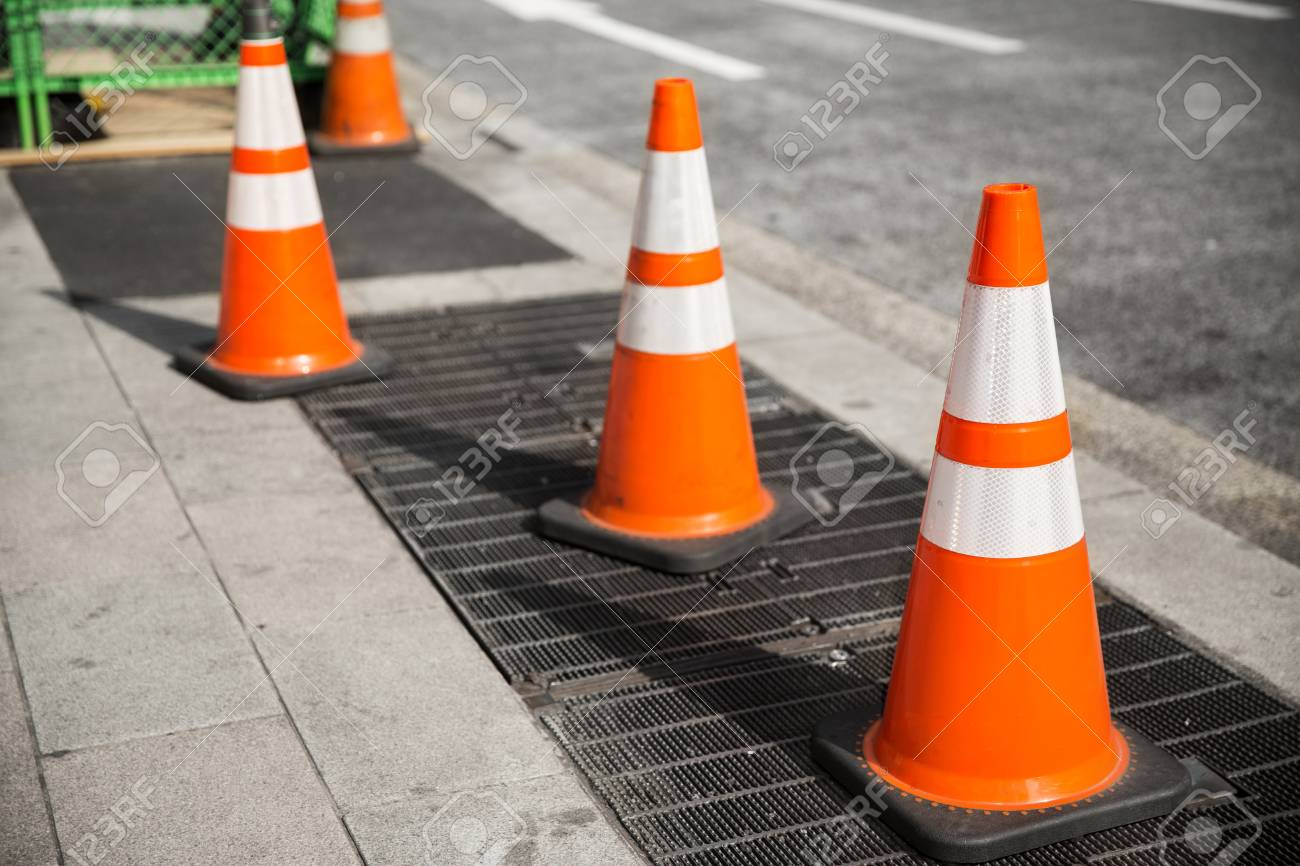cones: (831, 180, 1196, 836), (568, 67, 821, 568), (184, 34, 403, 397)
